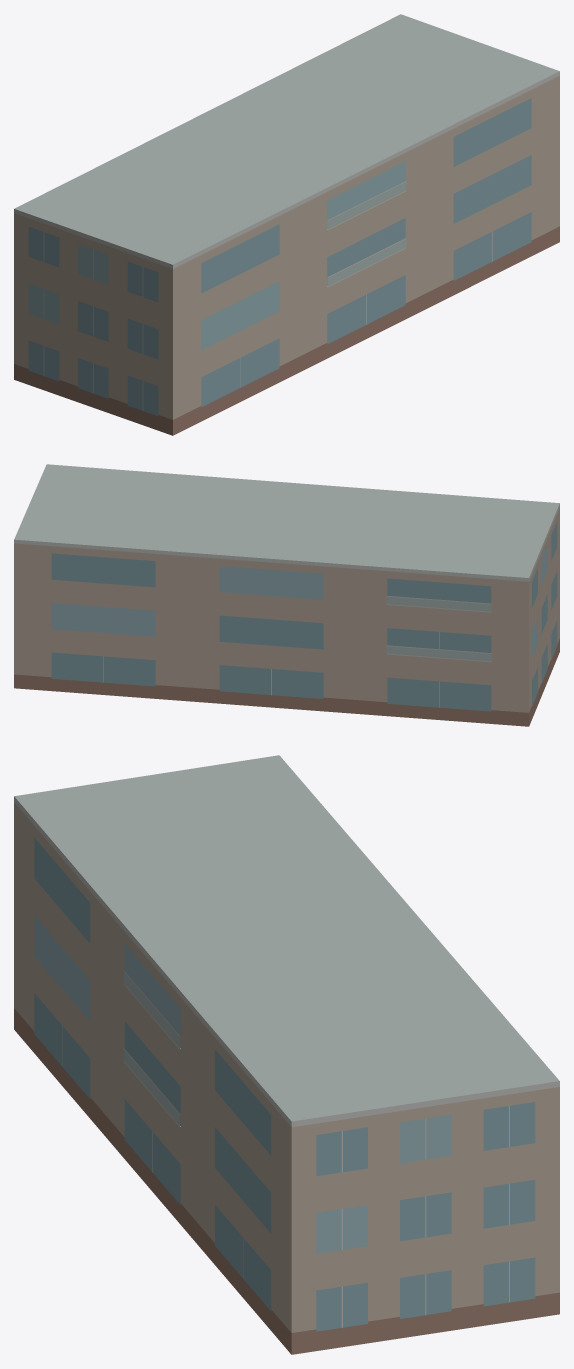
File: survey-upis-33047021.glb
3 renders of one model, top to bottom at view 1: azimuth 30°, elevation 25°; view 2: azimuth 150°, elevation 25°; view 3: azimuth 270°, elevation 25°, orthographic. The views are drawn at different scales.
Visible parts, largest first — view 1: survey-upis-33047021.tmp; view 2: survey-upis-33047021.tmp; view 3: survey-upis-33047021.tmp.
Part boxes in pixels (left/top/right/bottom): survey-upis-33047021.tmp: left=14, top=14, right=559, bottom=435; survey-upis-33047021.tmp: left=14, top=464, right=559, bottom=726; survey-upis-33047021.tmp: left=14, top=755, right=559, bottom=1354.
Size of the model in its own units: 33.03 by 9.8 by 20.79.
